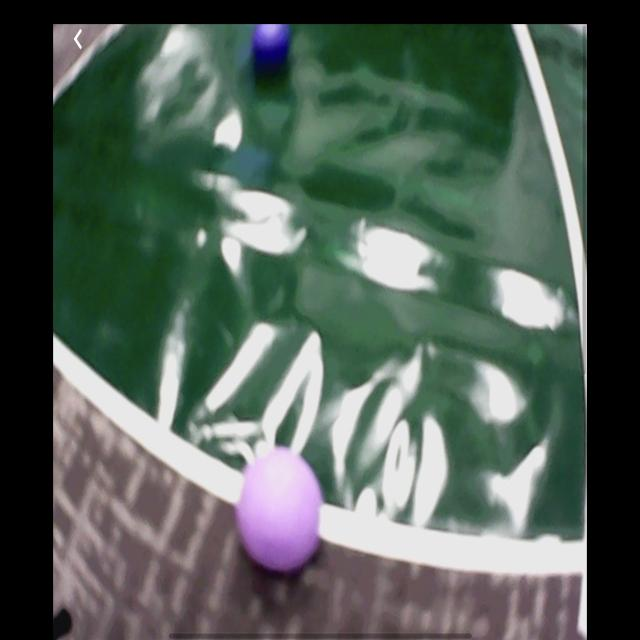ball: (240, 449, 324, 573), (252, 25, 293, 68)
